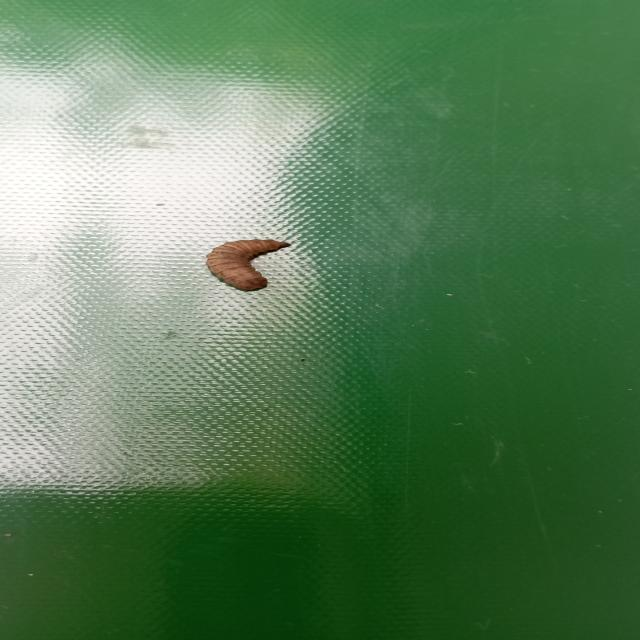Maggot: (204, 239, 288, 295)
